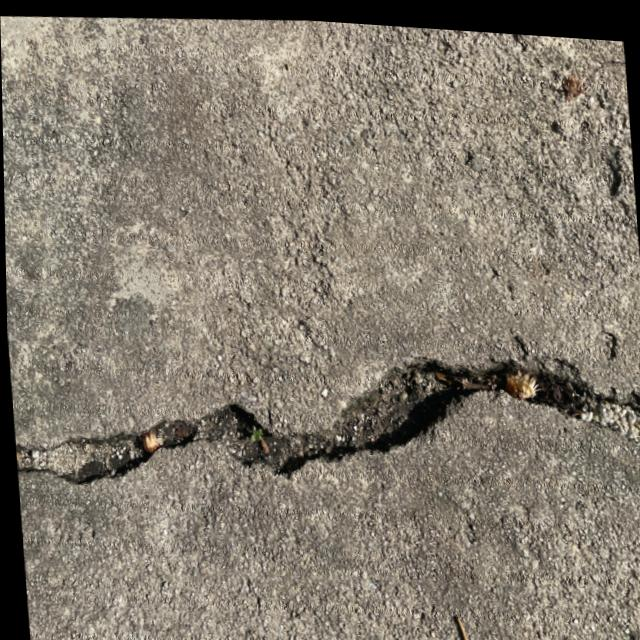Crack: (5, 274, 640, 549)
